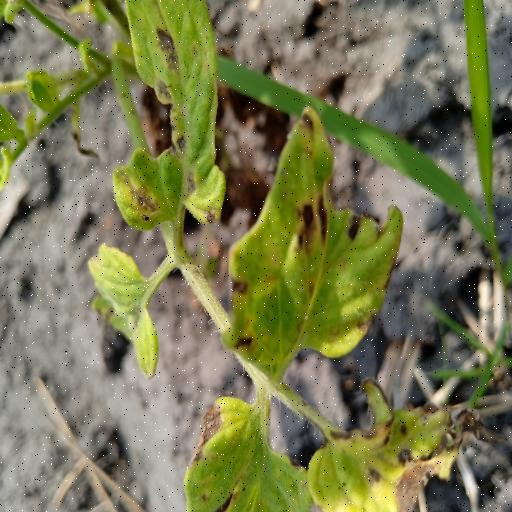Tomato_Brown_Spots: (220, 102, 410, 374), (109, 0, 231, 237)
